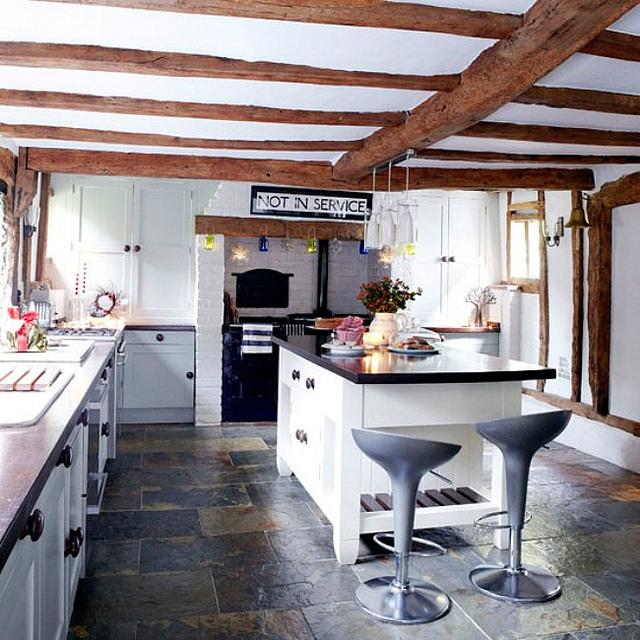chair: (351, 429, 464, 623), (470, 408, 573, 605)
dining table: (265, 327, 559, 563)
